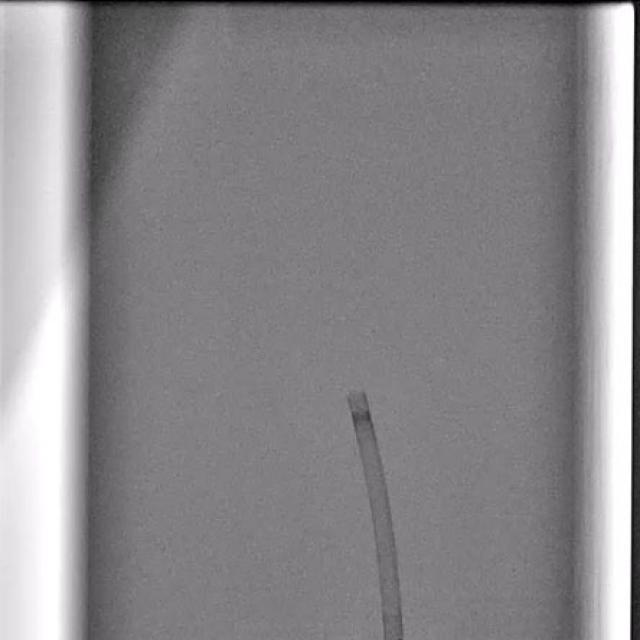bend: (381, 599, 402, 615)
entry: (383, 635, 403, 640)
marker: (351, 409, 372, 424)
tip: (348, 391, 366, 399)
